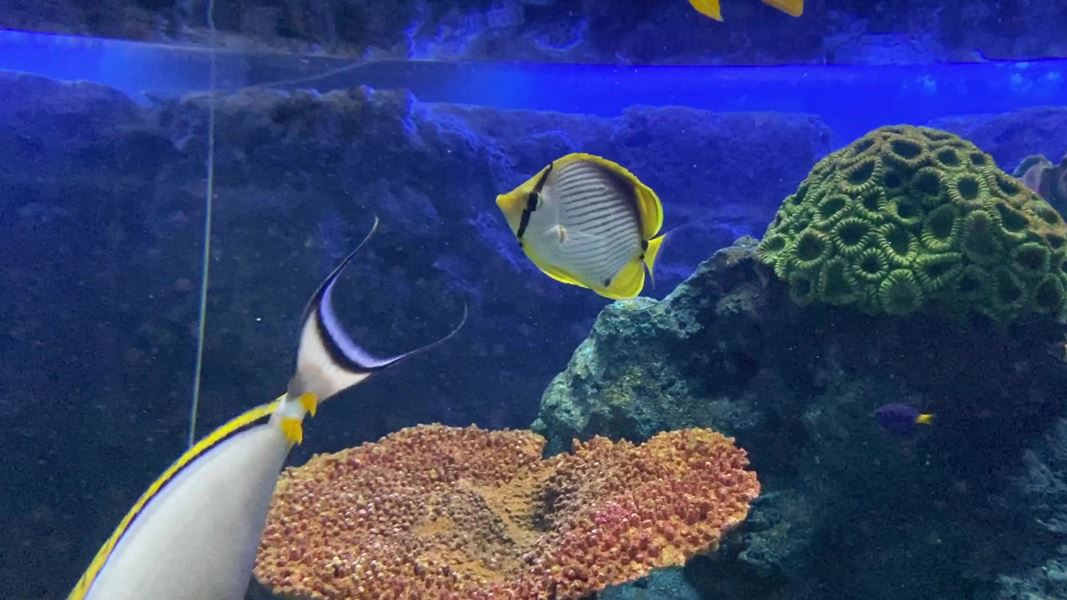Black-backed butterflyfish: (487, 143, 697, 311)
